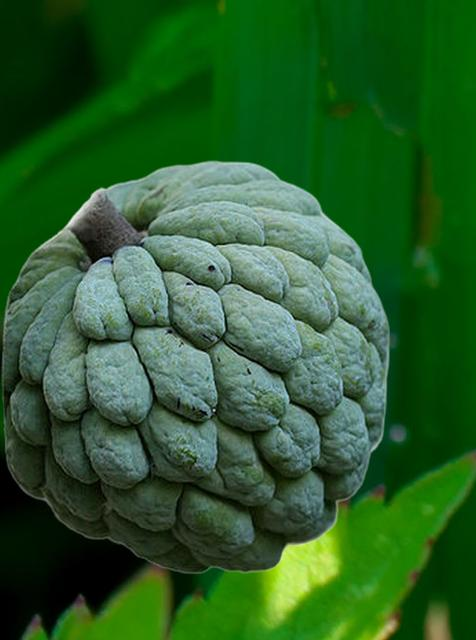atis: (1, 160, 389, 573)
